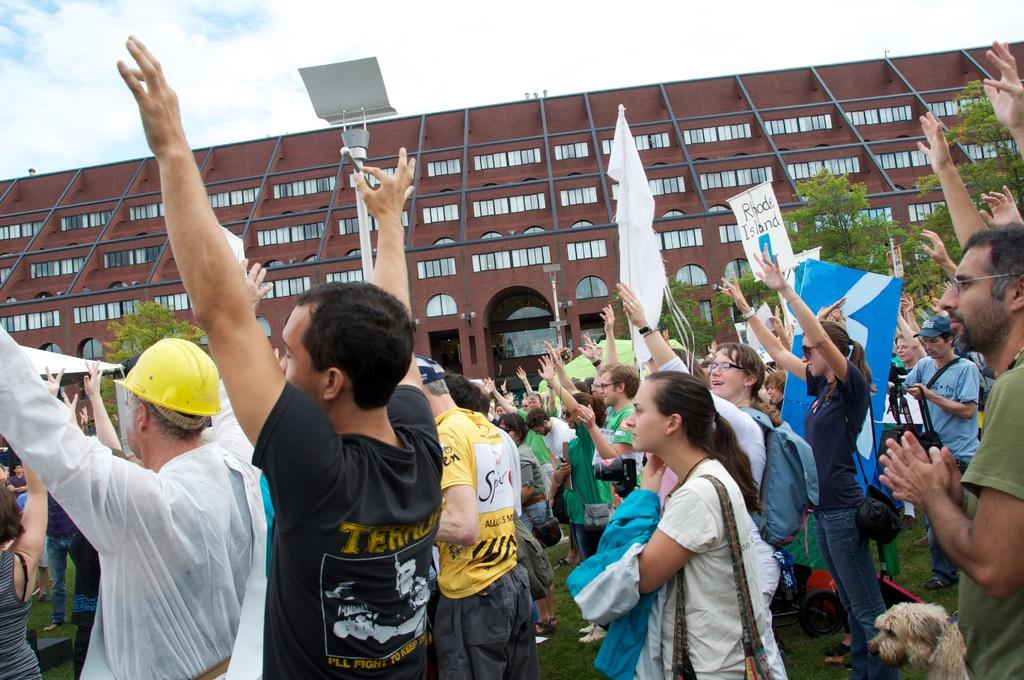Hat: (908, 316, 950, 340)
